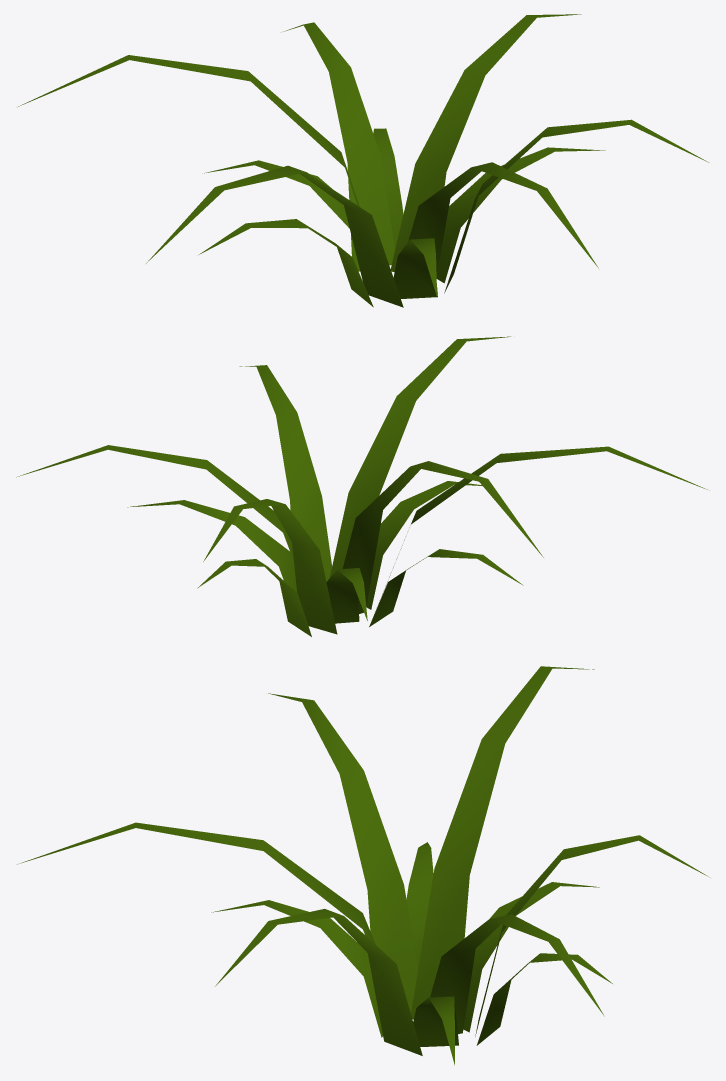
Rendered from ElwFor_Grass02.obj.
3 renders of one model, top to bottom at view 1: azimuth 30°, elevation 25°; view 2: azimuth 150°, elevation 25°; view 3: azimuth 270°, elevation 25°, orthographic. The views are drawn at different scales.
Parts seen in each view (by area): view 1: Mesh11 ElwFor_Grass02_C01_11 Model, Mesh8 ElwFor_Grass02_C01_8 Model, Mesh9 ElwFor_Grass02_C01_9 Model, Mesh6 ElwFor_Grass02_C01_6 Model, Mesh7 ElwFor_Grass02_C01_7 Model, Mesh4 ElwFor_Grass02_C01_4 Model, Mesh5 ElwFor_Grass02_C01_5 Model, Mesh10 ElwFor_Grass02_C01_10 Model, Mesh2 ElwFor_Grass02_C01_2 Model, Mesh3 ElwFor_Grass02_C01_3 Model, Mesh1 ElwFor_Grass02_C01_1 Model; view 2: Mesh6 ElwFor_Grass02_C01_6 Model, Mesh10 ElwFor_Grass02_C01_10 Model, Mesh11 ElwFor_Grass02_C01_11 Model, Mesh7 ElwFor_Grass02_C01_7 Model, Mesh8 ElwFor_Grass02_C01_8 Model, Mesh4 ElwFor_Grass02_C01_4 Model, Mesh9 ElwFor_Grass02_C01_9 Model, Mesh5 ElwFor_Grass02_C01_5 Model, Mesh1 ElwFor_Grass02_C01_1 Model, Mesh3 ElwFor_Grass02_C01_3 Model, Mesh2 ElwFor_Grass02_C01_2 Model; view 3: Mesh7 ElwFor_Grass02_C01_7 Model, Mesh9 ElwFor_Grass02_C01_9 Model, Mesh10 ElwFor_Grass02_C01_10 Model, Mesh8 ElwFor_Grass02_C01_8 Model, Mesh6 ElwFor_Grass02_C01_6 Model, Mesh5 ElwFor_Grass02_C01_5 Model, Mesh4 ElwFor_Grass02_C01_4 Model, Mesh3 ElwFor_Grass02_C01_3 Model, Mesh1 ElwFor_Grass02_C01_1 Model, Mesh11 ElwFor_Grass02_C01_11 Model, Mesh2 ElwFor_Grass02_C01_2 Model.
Boxes of the visible parts, box(x1,y1,x2,y2) form: Mesh11 ElwFor_Grass02_C01_11 Model: box(283, 22, 394, 271); Mesh8 ElwFor_Grass02_C01_8 Model: box(390, 14, 581, 272); Mesh9 ElwFor_Grass02_C01_9 Model: box(146, 165, 403, 307); Mesh6 ElwFor_Grass02_C01_6 Model: box(408, 162, 598, 274); Mesh7 ElwFor_Grass02_C01_7 Model: box(18, 55, 359, 206); Mesh4 ElwFor_Grass02_C01_4 Model: box(436, 147, 605, 283); Mesh5 ElwFor_Grass02_C01_5 Model: box(393, 238, 437, 298); Mesh10 ElwFor_Grass02_C01_10 Model: box(444, 119, 709, 293); Mesh2 ElwFor_Grass02_C01_2 Model: box(373, 128, 403, 249); Mesh3 ElwFor_Grass02_C01_3 Model: box(199, 219, 373, 307); Mesh1 ElwFor_Grass02_C01_1 Model: box(204, 160, 349, 228); Mesh6 ElwFor_Grass02_C01_6 Model: box(329, 336, 510, 577); Mesh10 ElwFor_Grass02_C01_10 Model: box(239, 365, 331, 581); Mesh11 ElwFor_Grass02_C01_11 Model: box(203, 499, 337, 634); Mesh7 ElwFor_Grass02_C01_7 Model: box(342, 461, 543, 613); Mesh8 ElwFor_Grass02_C01_8 Model: box(16, 445, 293, 560); Mesh4 ElwFor_Grass02_C01_4 Model: box(127, 500, 296, 591); Mesh9 ElwFor_Grass02_C01_9 Model: box(378, 446, 707, 603); Mesh5 ElwFor_Grass02_C01_5 Model: box(366, 481, 482, 609); Mesh1 ElwFor_Grass02_C01_1 Model: box(326, 568, 367, 623); Mesh3 ElwFor_Grass02_C01_3 Model: box(369, 549, 523, 626); Mesh2 ElwFor_Grass02_C01_2 Model: box(197, 559, 311, 636); Mesh7 ElwFor_Grass02_C01_7 Model: box(411, 666, 594, 1019); Mesh9 ElwFor_Grass02_C01_9 Model: box(268, 693, 417, 1013); Mesh10 ElwFor_Grass02_C01_10 Model: box(215, 908, 422, 1055); Mesh8 ElwFor_Grass02_C01_8 Model: box(430, 914, 604, 1034); Mesh6 ElwFor_Grass02_C01_6 Model: box(17, 822, 375, 944); Mesh5 ElwFor_Grass02_C01_5 Model: box(211, 900, 382, 1037); Mesh4 ElwFor_Grass02_C01_4 Model: box(413, 996, 458, 1065); Mesh3 ElwFor_Grass02_C01_3 Model: box(406, 842, 433, 968); Mesh1 ElwFor_Grass02_C01_1 Model: box(463, 882, 599, 1032); Mesh11 ElwFor_Grass02_C01_11 Model: box(475, 835, 709, 1036); Mesh2 ElwFor_Grass02_C01_2 Model: box(476, 953, 612, 1045).
Size of the model in its own units: 42.36 by 16.07 by 40.38.
